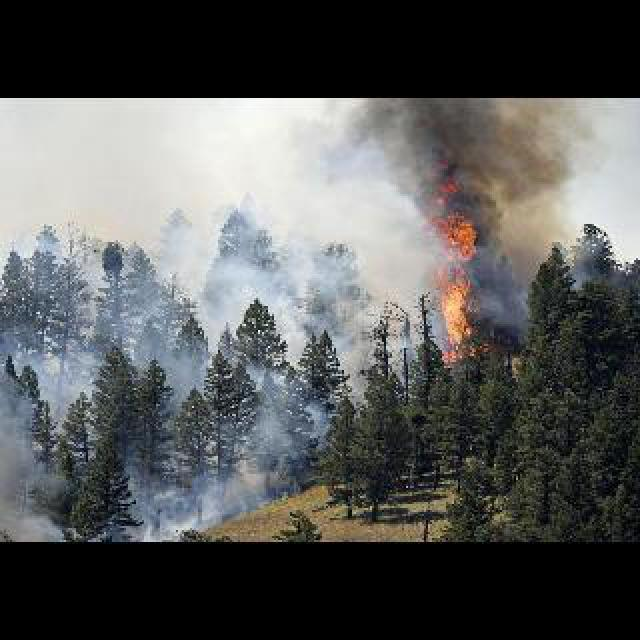Fire: (430, 158, 488, 370)
Smoke: (2, 218, 316, 504), (350, 96, 608, 222)
